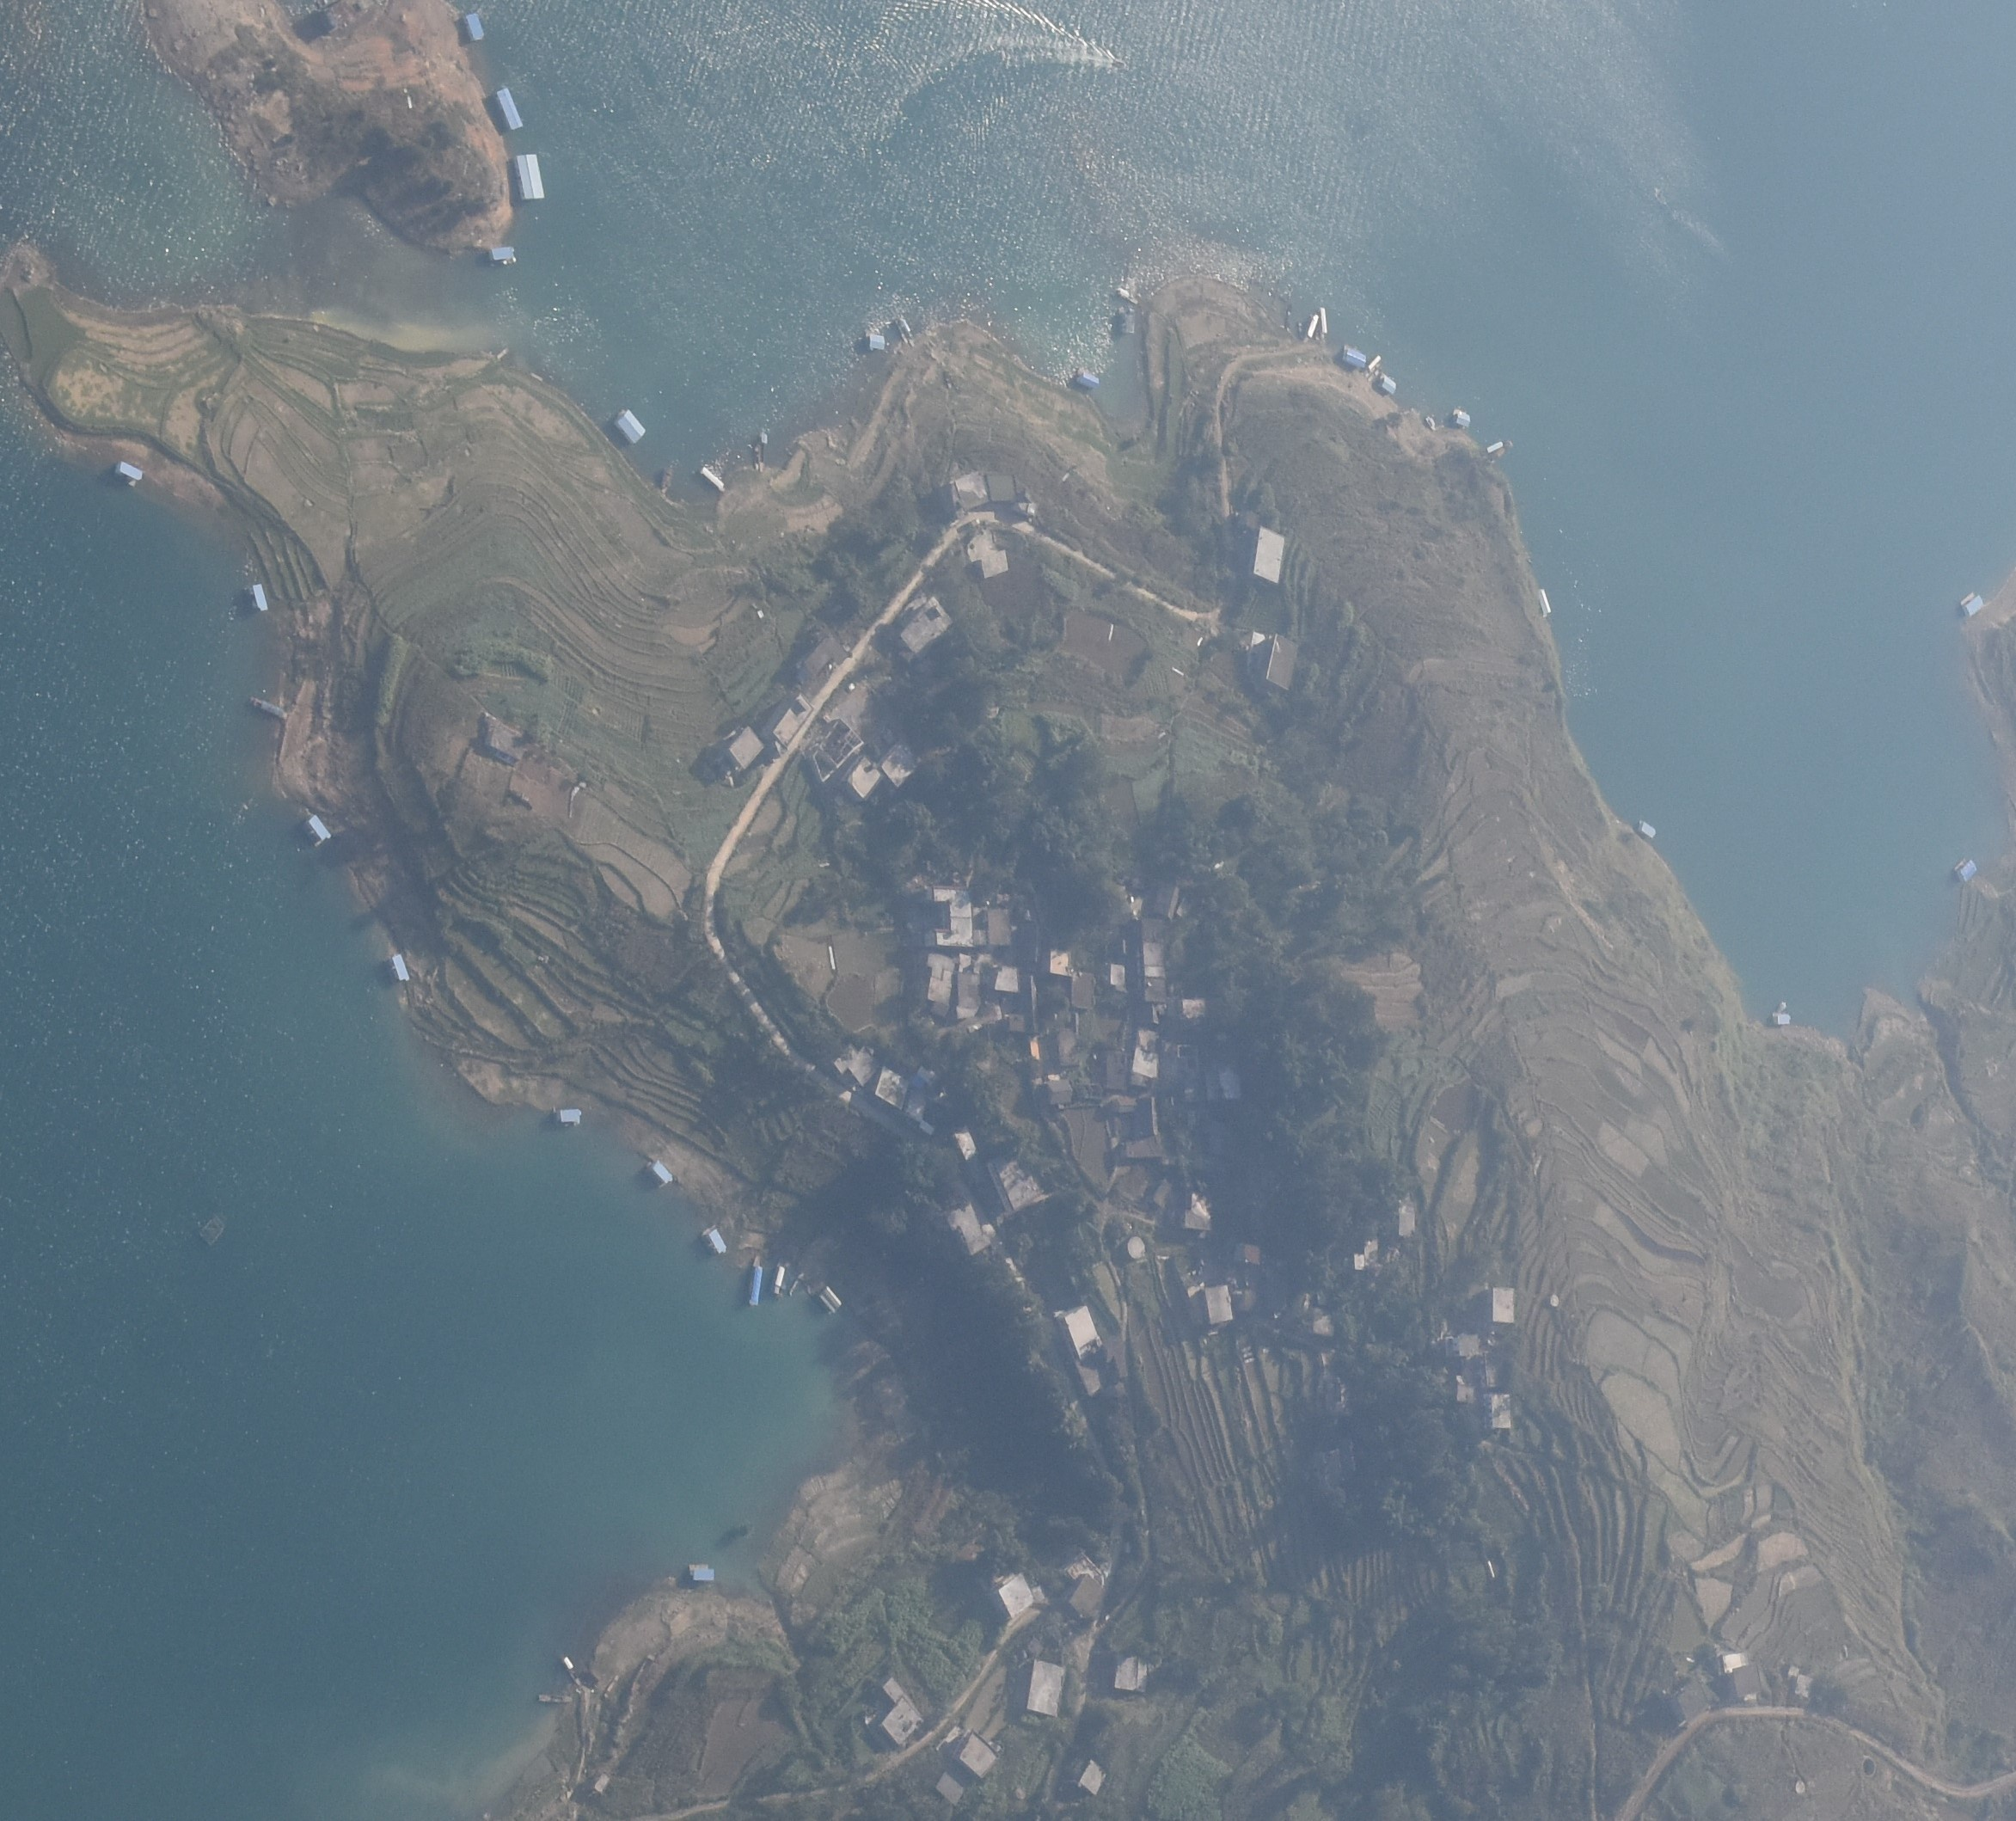building: (935, 1725, 999, 1807), (1125, 1095, 1186, 1168), (1141, 918, 1188, 1005), (990, 1149, 1055, 1211), (946, 1180, 995, 1256), (916, 886, 973, 947), (813, 717, 864, 783), (874, 1064, 929, 1125), (900, 596, 952, 653), (1249, 631, 1299, 690), (1202, 1033, 1244, 1101), (882, 1677, 922, 1744), (954, 952, 990, 1024), (1005, 974, 1048, 1034), (953, 471, 1018, 511), (1065, 1553, 1106, 1616), (771, 691, 815, 749), (1026, 1658, 1064, 1719), (1064, 1306, 1104, 1363), (952, 1116, 987, 1180), (1184, 1163, 1216, 1231), (1665, 1680, 1713, 1724), (967, 530, 1010, 579), (1251, 524, 1285, 584), (921, 950, 953, 1014), (1721, 1651, 1762, 1700), (487, 714, 528, 763), (880, 739, 922, 788), (806, 631, 851, 674), (833, 1044, 879, 1086), (1292, 1292, 1336, 1336), (1171, 1044, 1203, 1099), (1132, 1027, 1161, 1087), (849, 753, 884, 801), (997, 1571, 1033, 1617), (972, 904, 1010, 947), (728, 726, 764, 769), (1115, 1650, 1149, 1693), (1019, 917, 1044, 971), (1204, 1283, 1234, 1326), (1097, 1050, 1128, 1090), (1103, 1334, 1131, 1377), (1075, 1358, 1103, 1398), (1152, 880, 1179, 921), (1080, 1759, 1107, 1798), (1124, 874, 1148, 918), (1484, 1350, 1510, 1389), (1355, 1230, 1381, 1271), (1485, 1392, 1510, 1430), (988, 961, 1018, 992), (1074, 969, 1095, 1012), (1397, 1196, 1418, 1240), (1057, 1027, 1081, 1066), (1443, 1334, 1478, 1359), (1492, 1286, 1516, 1324), (1787, 1666, 1813, 1699), (1045, 1080, 1074, 1107), (1048, 947, 1072, 977), (1234, 1242, 1263, 1266), (1455, 1373, 1476, 1404), (1180, 997, 1205, 1023), (1075, 1083, 1104, 1106), (1235, 1289, 1261, 1312), (1176, 895, 1192, 919), (1111, 962, 1126, 986), (1016, 501, 1035, 516)
prefabricated-house: (516, 156, 547, 198), (616, 409, 647, 446), (496, 88, 523, 132), (302, 813, 332, 840), (818, 1285, 843, 1315), (114, 461, 144, 481), (1343, 344, 1367, 369), (704, 1227, 726, 1254), (750, 1266, 764, 1306), (649, 1161, 674, 1183), (464, 12, 483, 41), (1962, 594, 1984, 617), (391, 953, 409, 981), (1957, 859, 1978, 882), (691, 1563, 716, 1582), (253, 581, 267, 612), (1076, 371, 1100, 390), (558, 1107, 581, 1125), (1377, 372, 1396, 394), (489, 246, 516, 260), (1538, 587, 1552, 614), (1454, 408, 1471, 428), (867, 333, 885, 351), (1639, 819, 1656, 837), (1773, 1012, 1791, 1026), (1486, 441, 1504, 454)
ship: (247, 694, 288, 723), (700, 465, 727, 492), (561, 1656, 583, 1686), (539, 1691, 573, 1706), (1120, 304, 1136, 334), (788, 1274, 805, 1299), (661, 464, 674, 495), (774, 1265, 786, 1296), (1307, 313, 1321, 340), (760, 432, 768, 476), (1119, 288, 1139, 305), (1319, 306, 1329, 334), (1111, 58, 1127, 68), (755, 446, 759, 469)
well: (1128, 1235, 1146, 1260), (1013, 1783, 1028, 1800), (1549, 1293, 1560, 1308)
